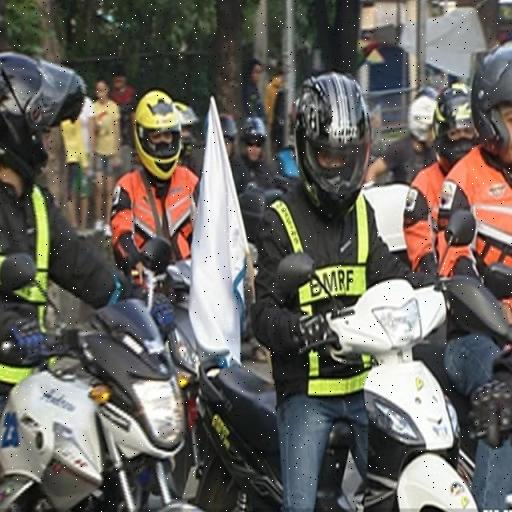Helmet: (286, 70, 382, 222), (0, 42, 77, 196), (119, 94, 196, 184), (422, 76, 480, 166), (473, 42, 512, 156), (406, 89, 434, 144)
Motor: (170, 304, 474, 512), (0, 284, 189, 512)
